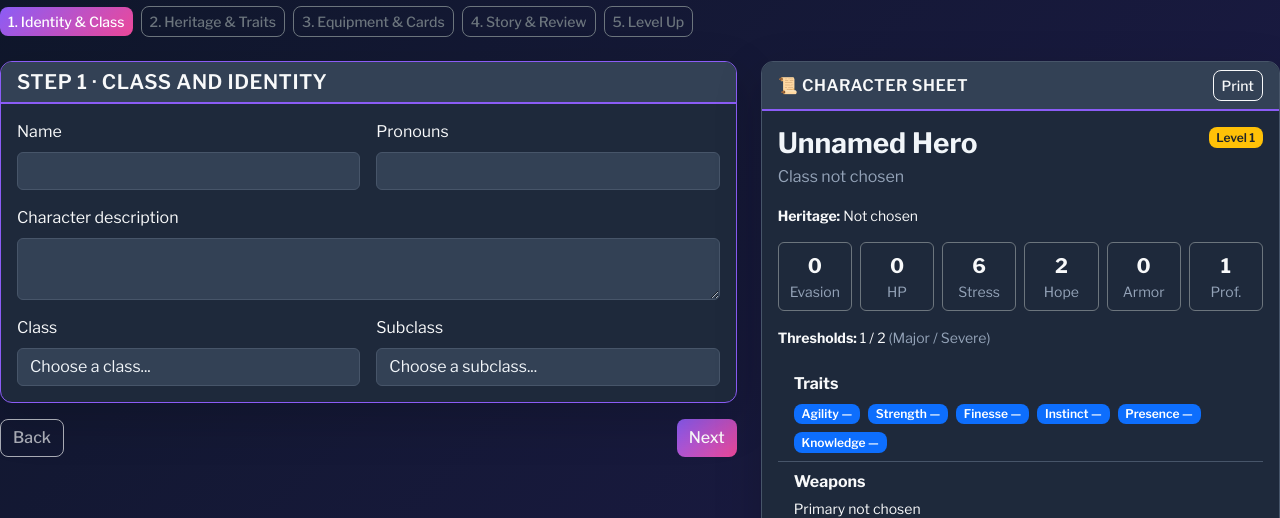
CharacterBuilder flows › supports Mixed Ancestry and flags an invalid combination
The image size is (1280, 518).
Click the button "2. Heritage & Traits".
click(213, 22)  # box [141,6,285,37]
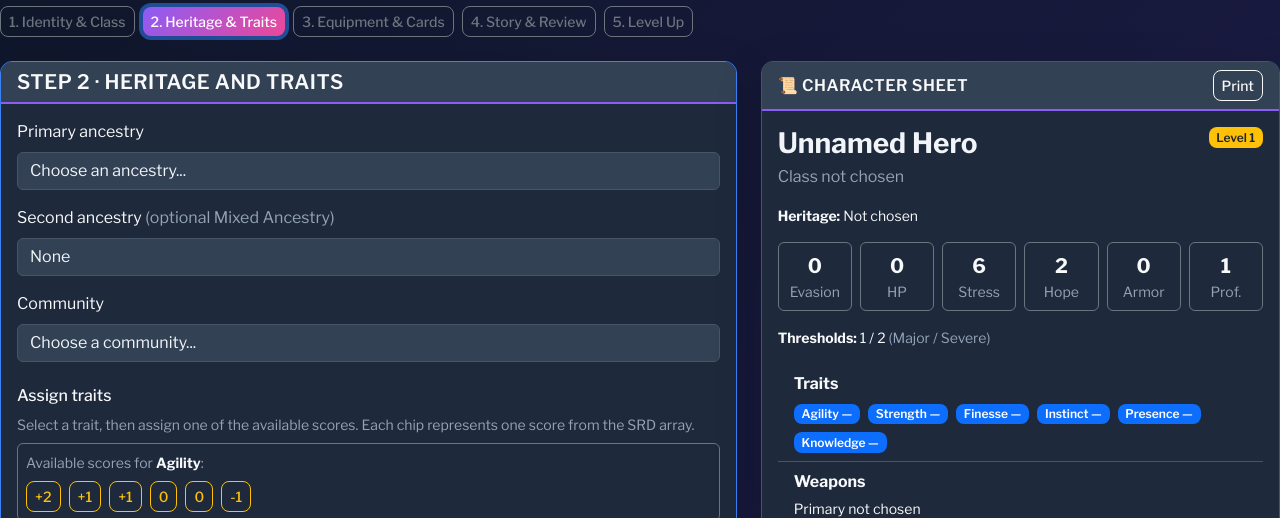
Select "Elf" in the dropdown labelled "Primary ancestry" at (368, 171), box [17,152,720,190]
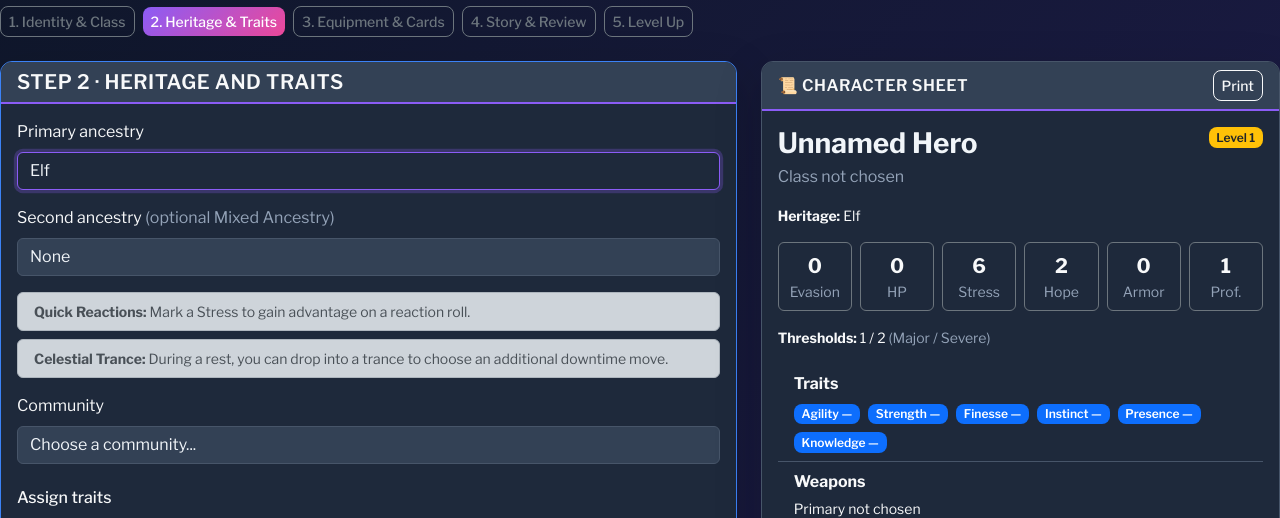
Select "Orc" in the dropdown labelled "Second ancestry (optional Mixed Ancestry)" at (368, 257), box [17,238,720,276]
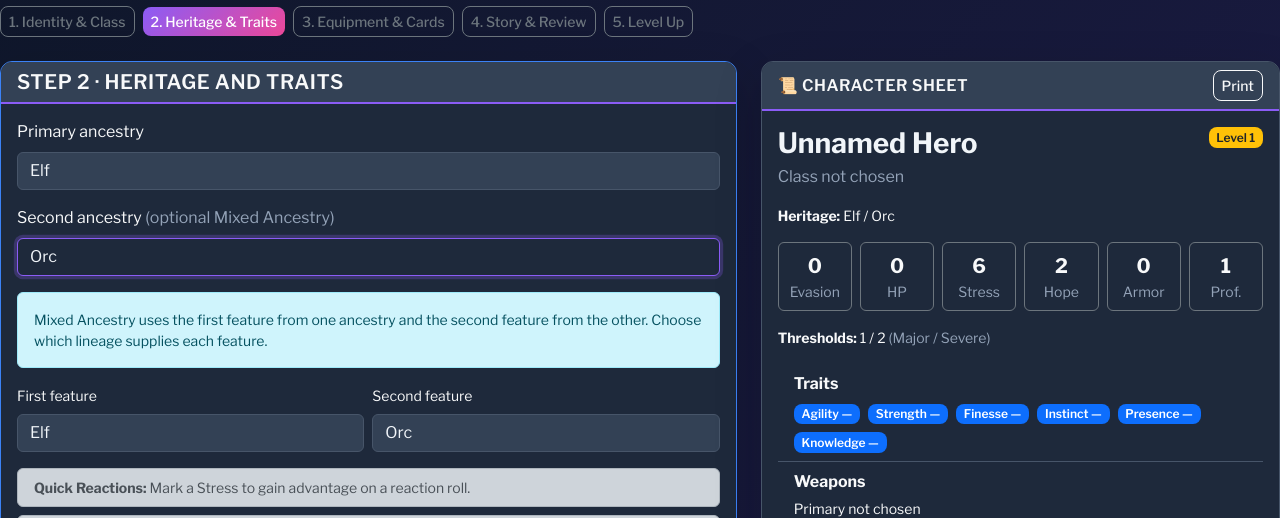
Check: the dropdown labelled "First feature" is shown, box [17,414,364,452]
Check: the dropdown labelled "Second feature" is shown, box [372,414,720,452]
Check: the text "Mixed Ancestry uses the first feature" is shown, box [34,311,701,349]
Select "Elf" in the dropdown labelled "Second ancestry (optional Mixed Ancestry)" at (368, 257), box [17,238,720,276]
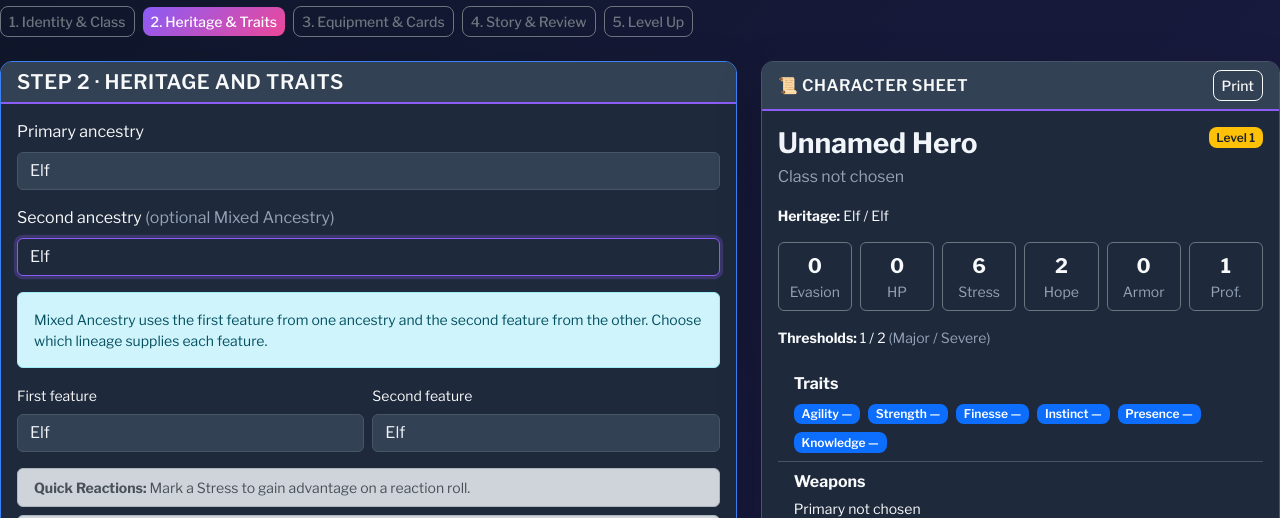
Click the button "4. Story & Review".
click(529, 22)  # box [462,6,596,37]
(page scrolled)
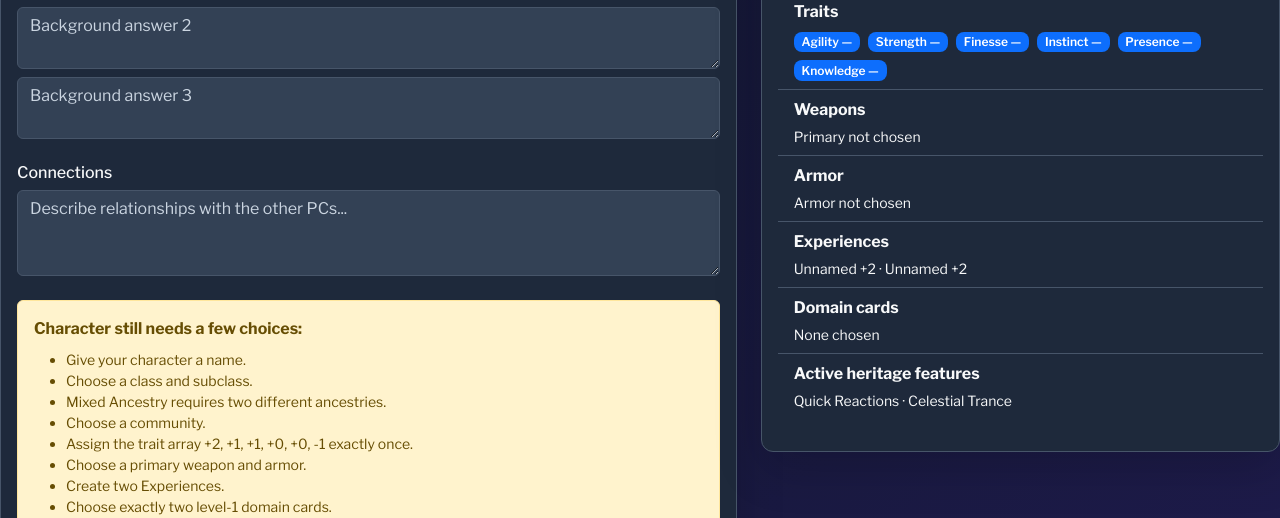
Check: the list item "Mixed Ancestry requires two different ancestries." is shown, box [66,393,386,410]
